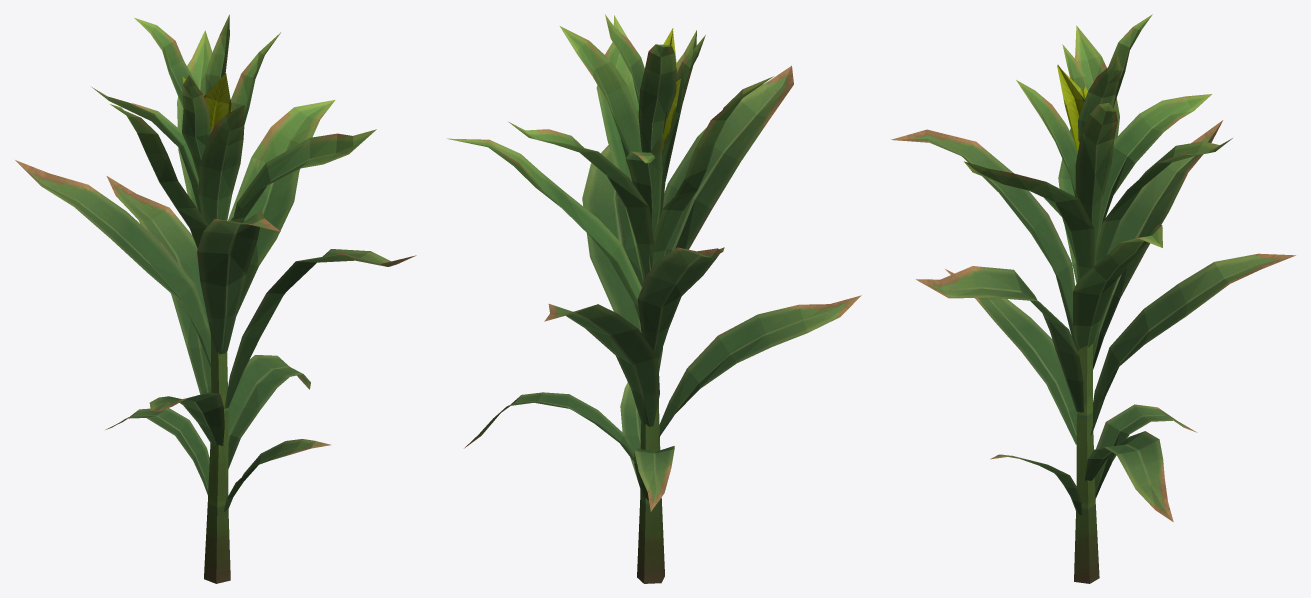
The model's file is P_Herb_00173.obj.
3 renders of one model, left to right at view 1: azimuth 30°, elevation 25°; view 2: azimuth 150°, elevation 25°; view 3: azimuth 270°, elevation 25°, orthographic. The views are drawn at different scales.
Size of the model in its own units: 1.02 by 1.83 by 1.25.
1 material, 1 textured.
